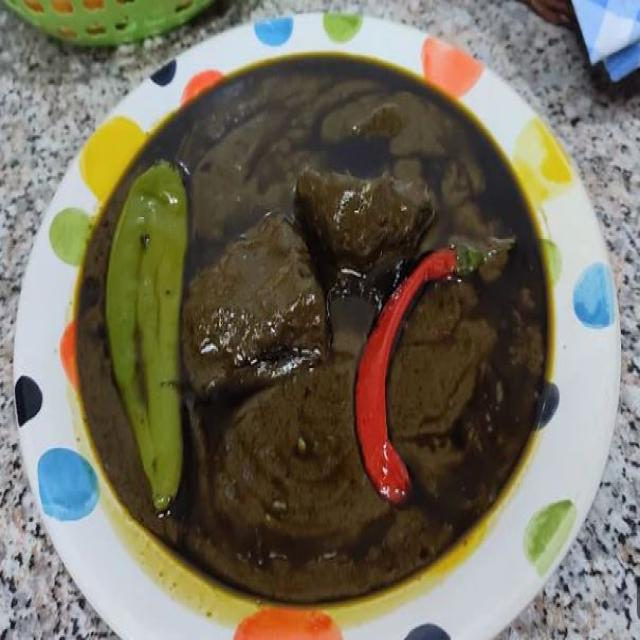Melloukhia: (43, 24, 614, 621)
